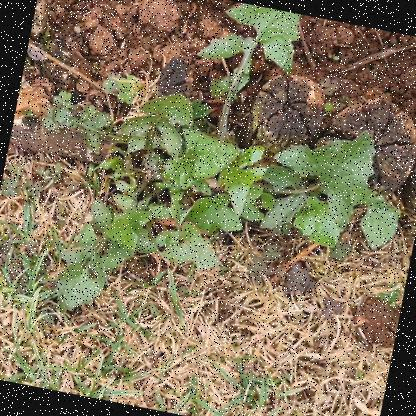Weeds: (5, 0, 415, 370)
